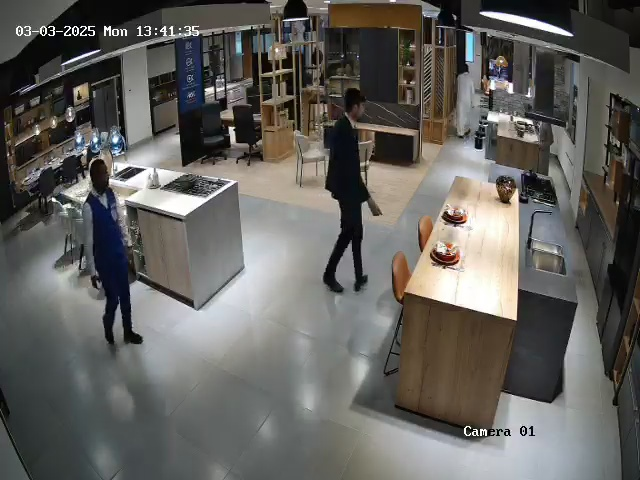employee: (317, 86, 379, 299), (82, 159, 144, 347)
male: (449, 60, 480, 144), (535, 119, 559, 187)
